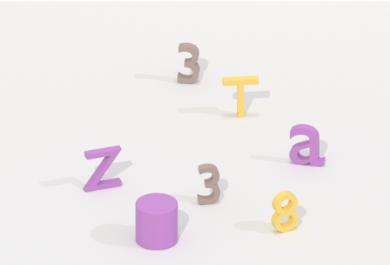0-KhoiTru: (130, 190, 181, 253)
3: (173, 39, 205, 89), (193, 159, 224, 210)
8: (267, 187, 303, 237)
T: (220, 70, 262, 124)
Z: (80, 140, 126, 196)
a: (286, 122, 329, 170)
